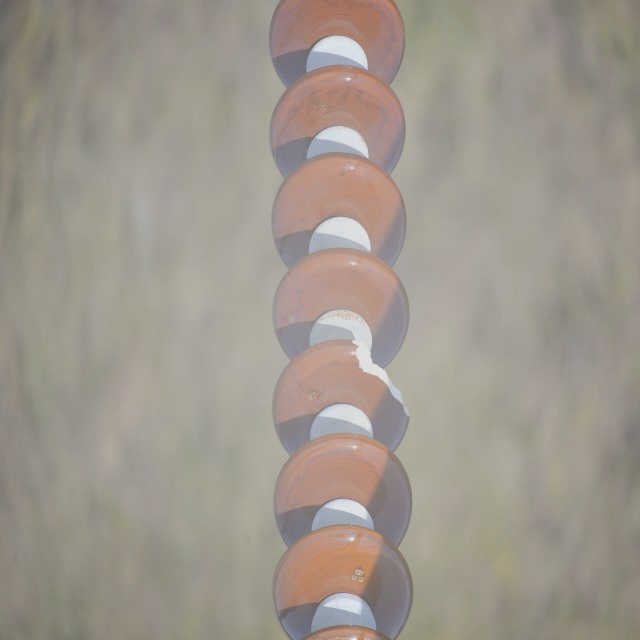broken: (348, 341, 411, 420)
insulator: (266, 0, 416, 638)
